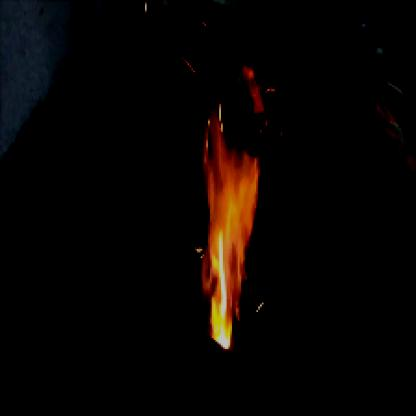Fire: (186, 54, 284, 353)
